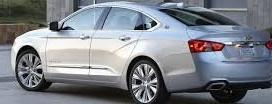Cars: (13, 4, 272, 104)
